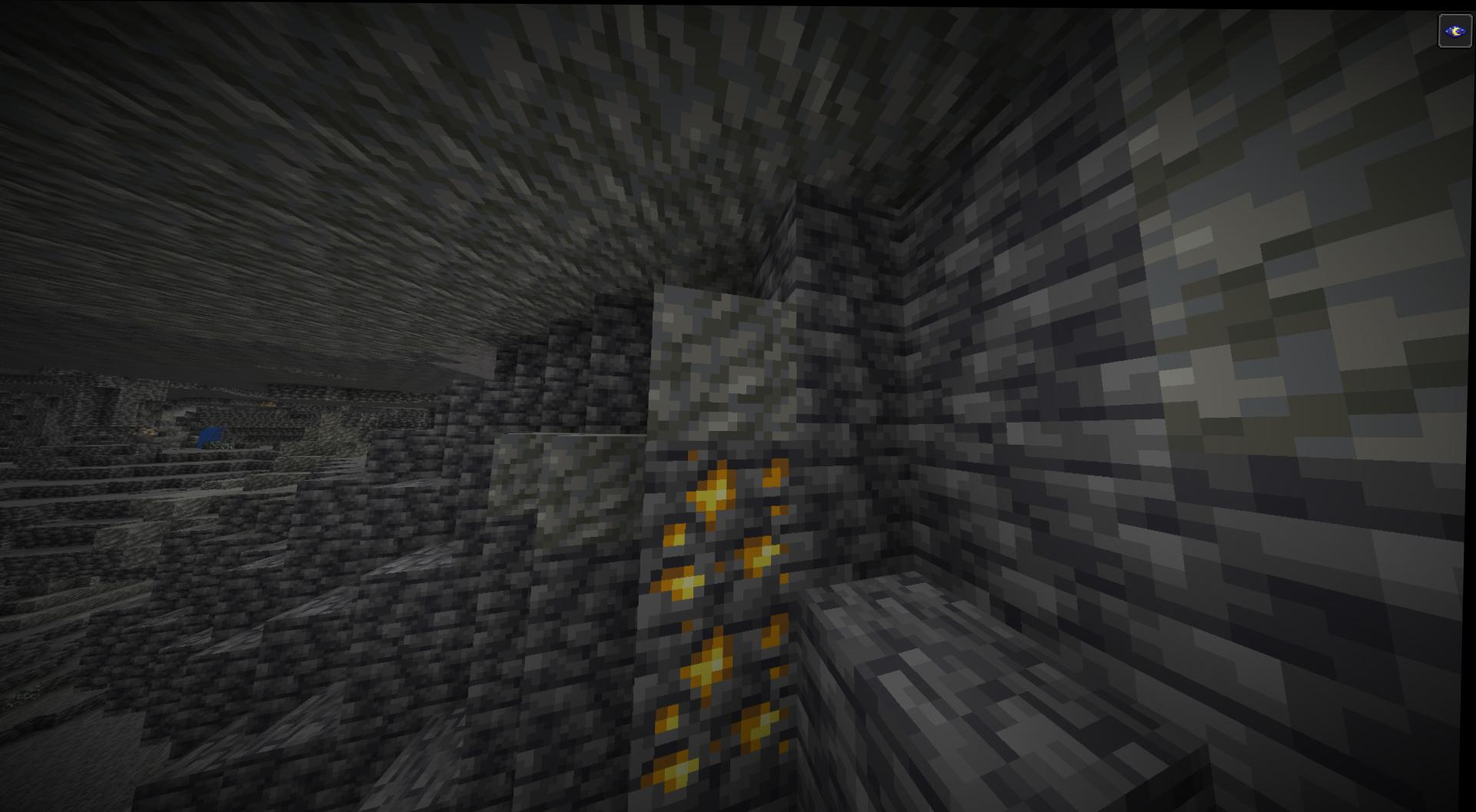gold ore: (655, 606, 808, 774), (647, 444, 804, 597)
